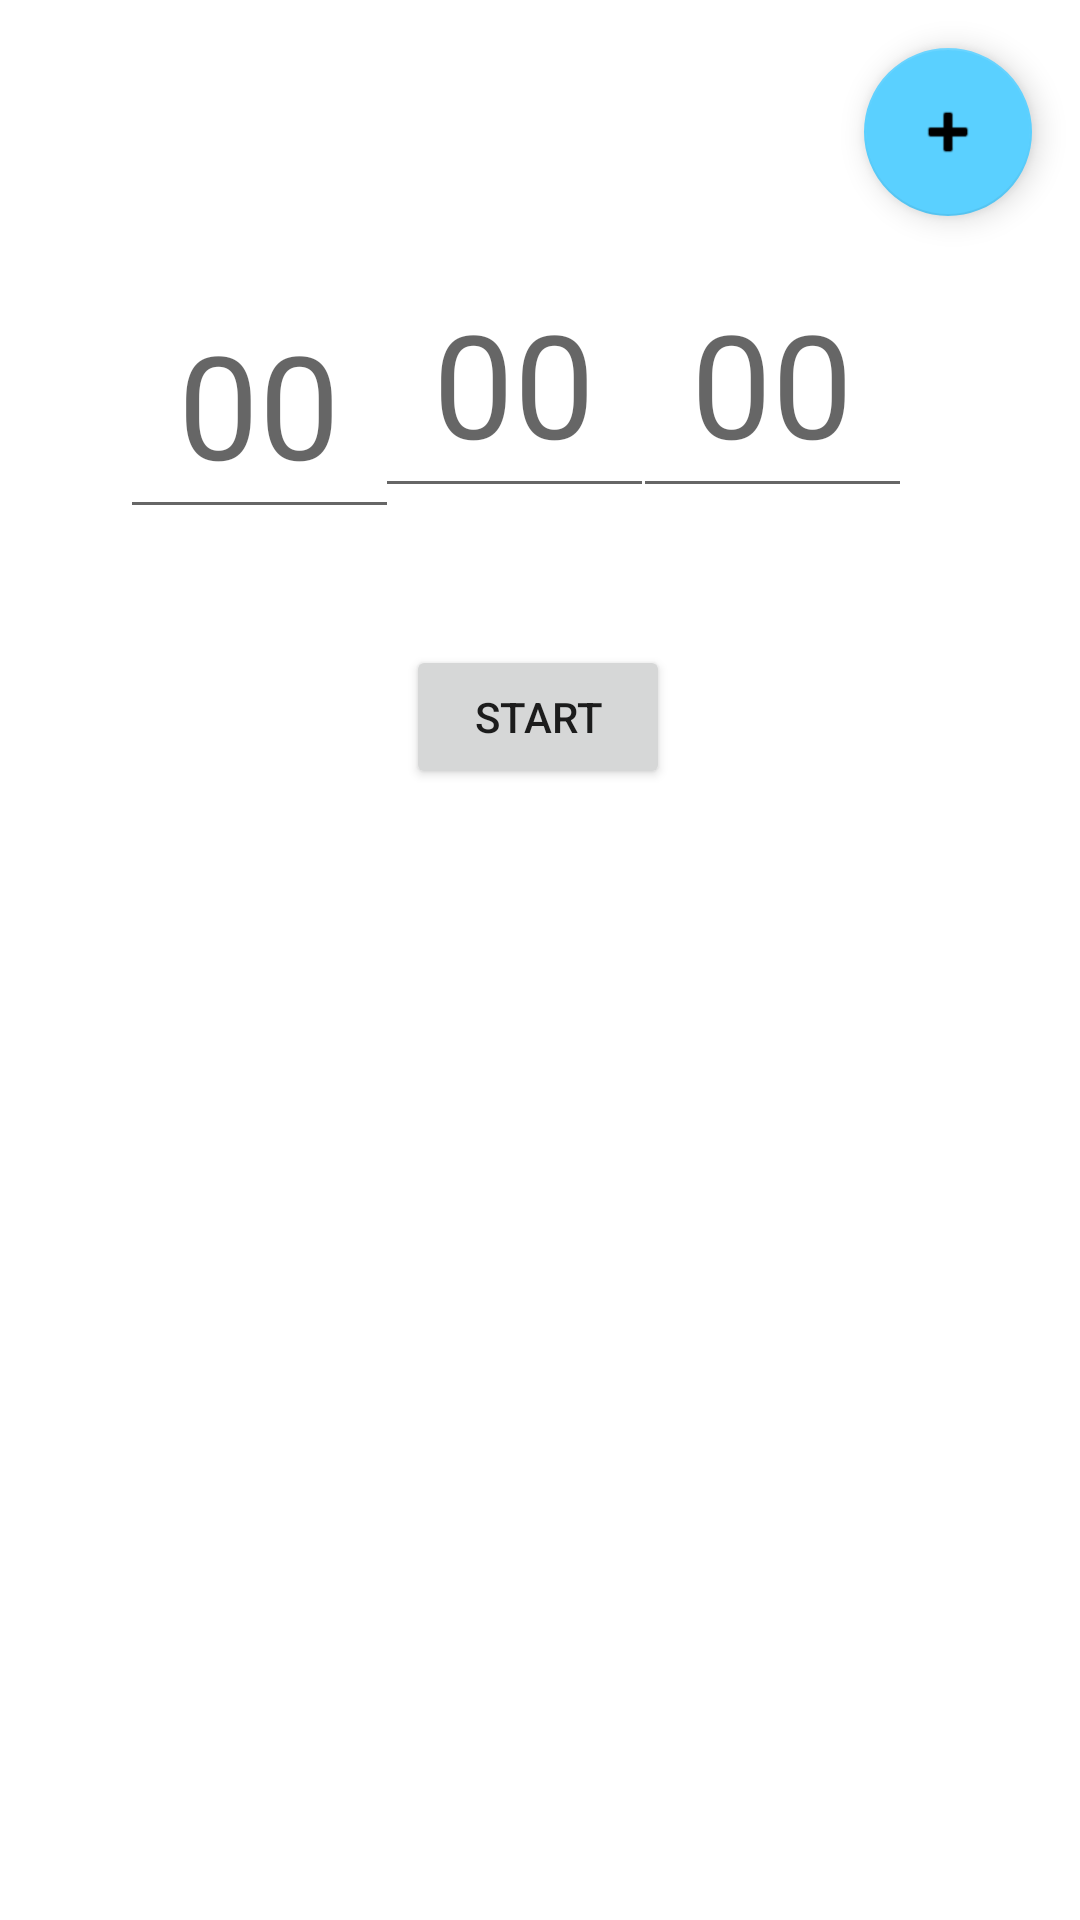

Screen size 1080*1920. Icon name, then its box in pixels as {"x1": x1, "y1": y1, "x2": x2, "y2": y2}:
New Alarm: {"x1": 864, "y1": 48, "x2": 1032, "y2": 216}
